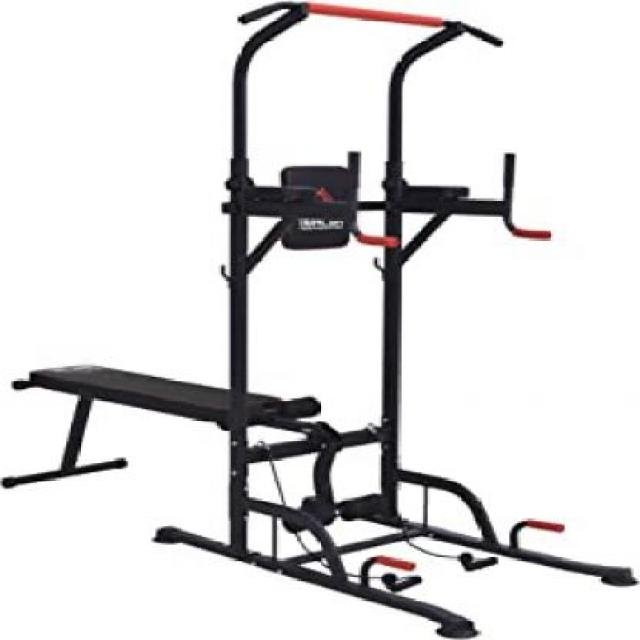chinning dipping: (226, 1, 637, 638)
